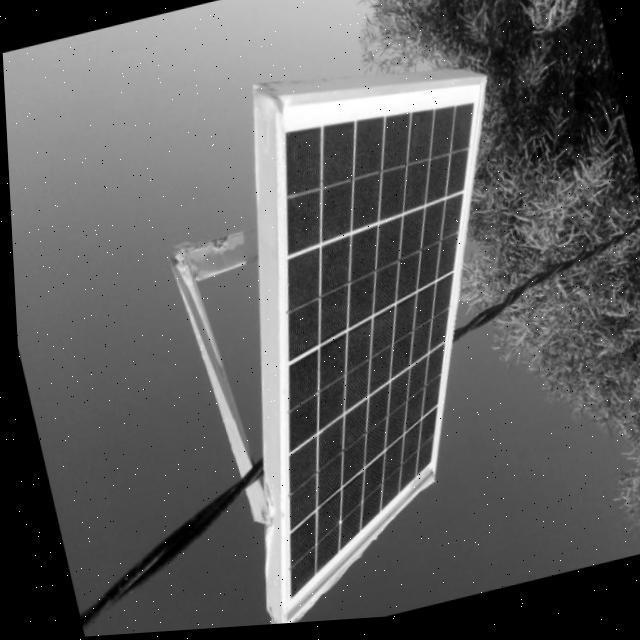Normal Solar Panel: (169, 60, 585, 630)
